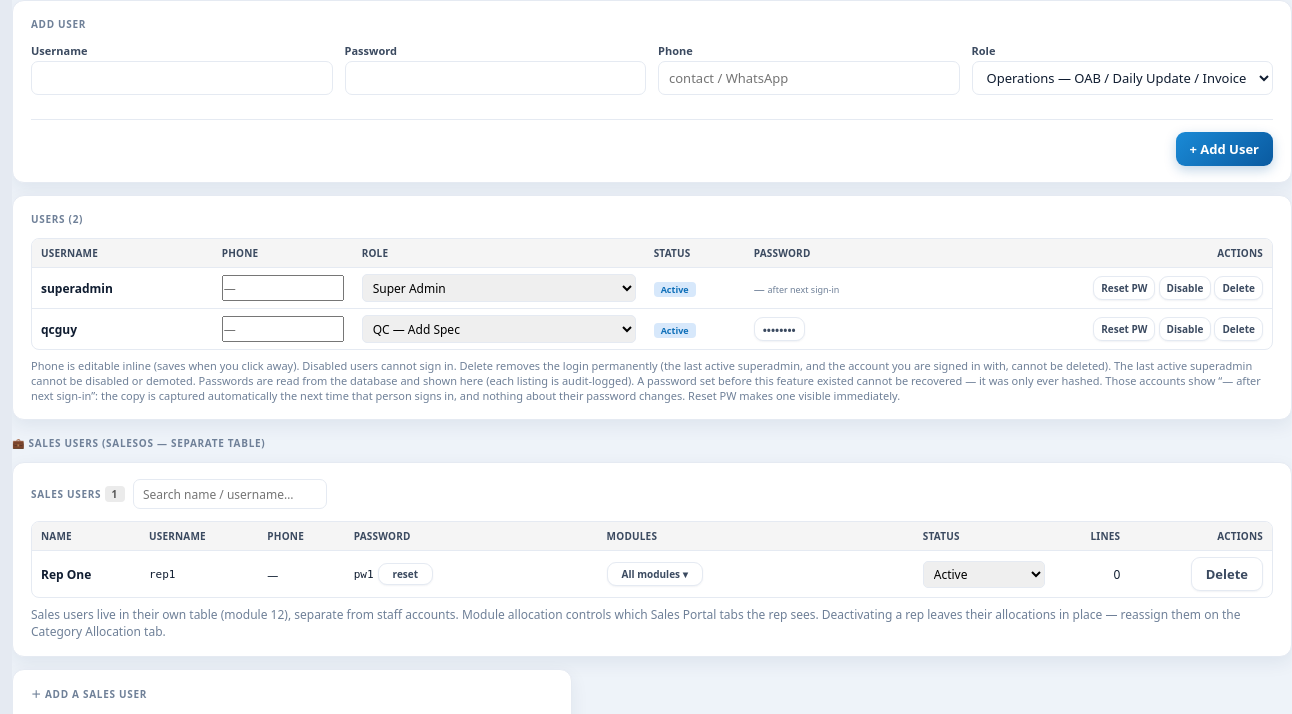
Test case: Users & Access › reveals and hides a stored staff password on click
Check: the text "qcguy" is shown, box x1=32 y1=308 x2=213 y2=349
Click the button named "Show password for qcguy". click: click(779, 329)
box: x1=754 y1=317 x2=805 y2=341
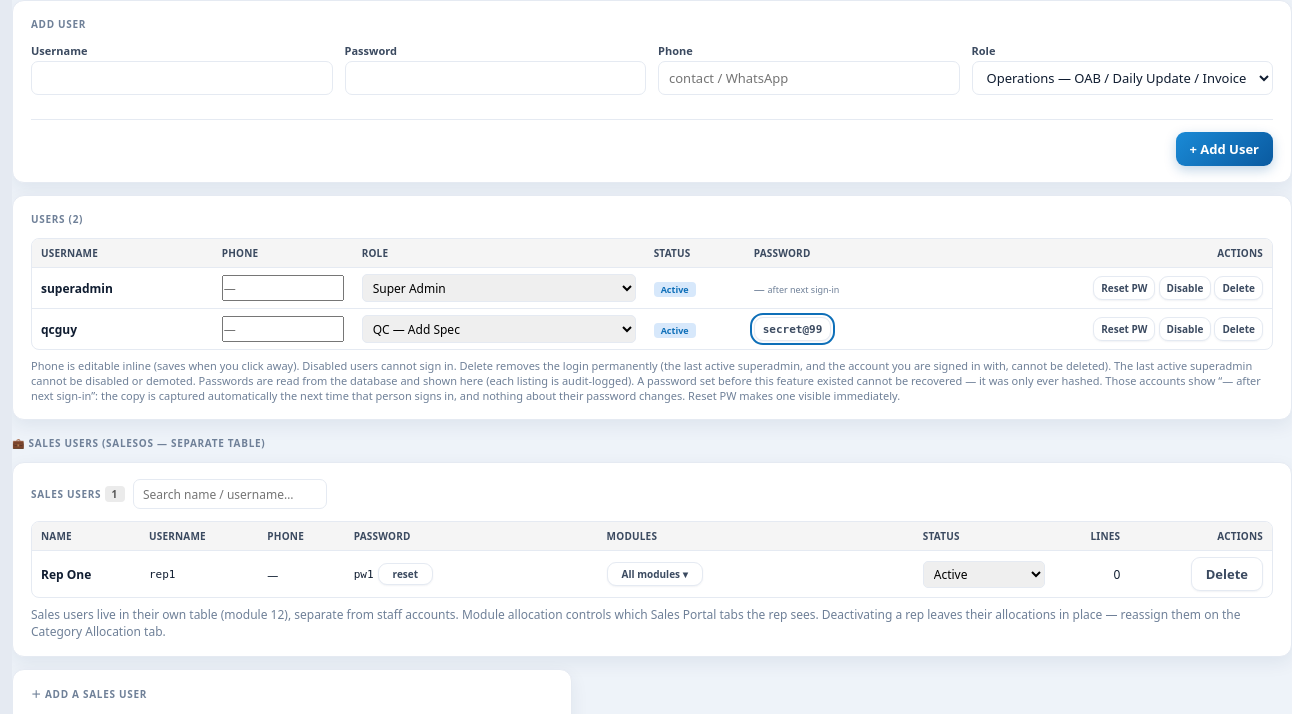
Check: the button with aria-label "Hide password for qcguy" reads "secret@99"
Click the button with aria-label "Hide password for qcguy". click: click(792, 329)
box: x1=754 y1=317 x2=831 y2=341
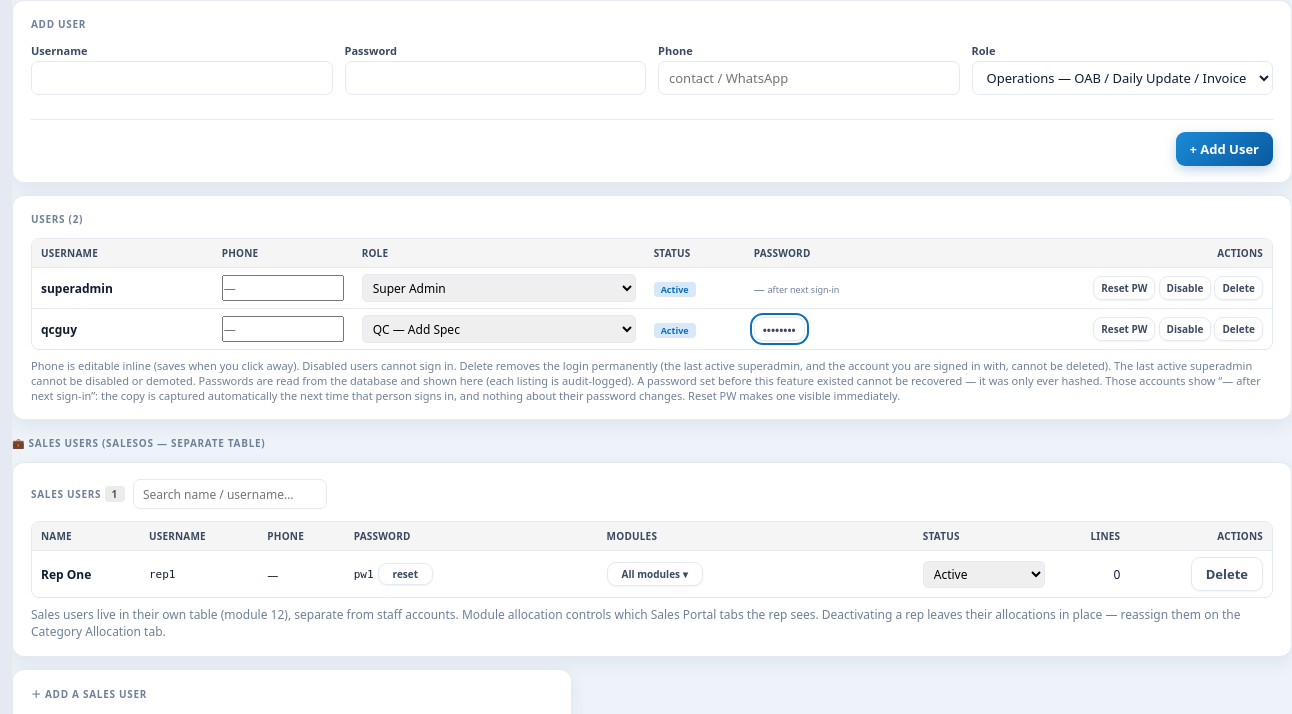
Check: the button named "Show password for qcguy" shows "••", box x1=754 y1=317 x2=805 y2=341
